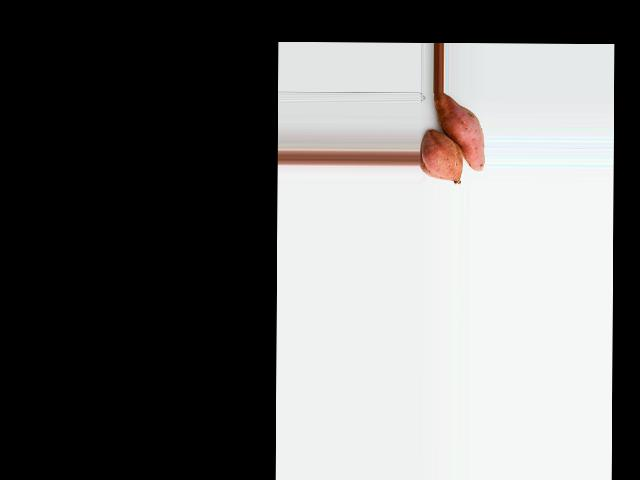sweet_potato: (425, 132, 459, 184)
